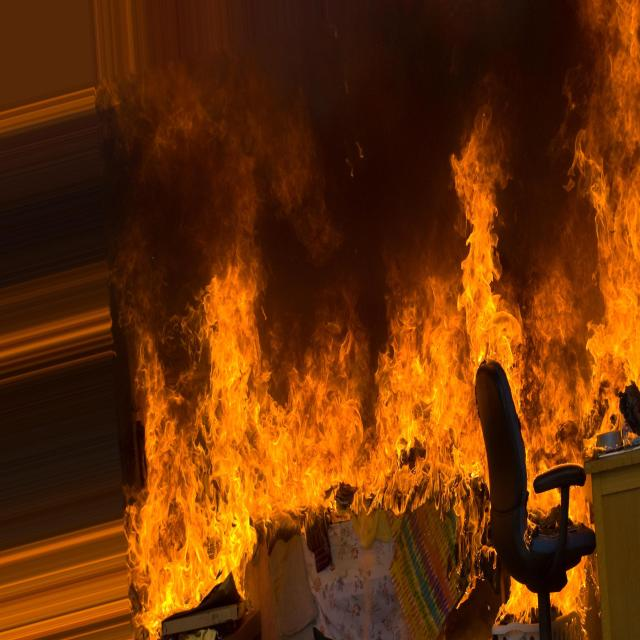fire: (119, 55, 629, 614)
